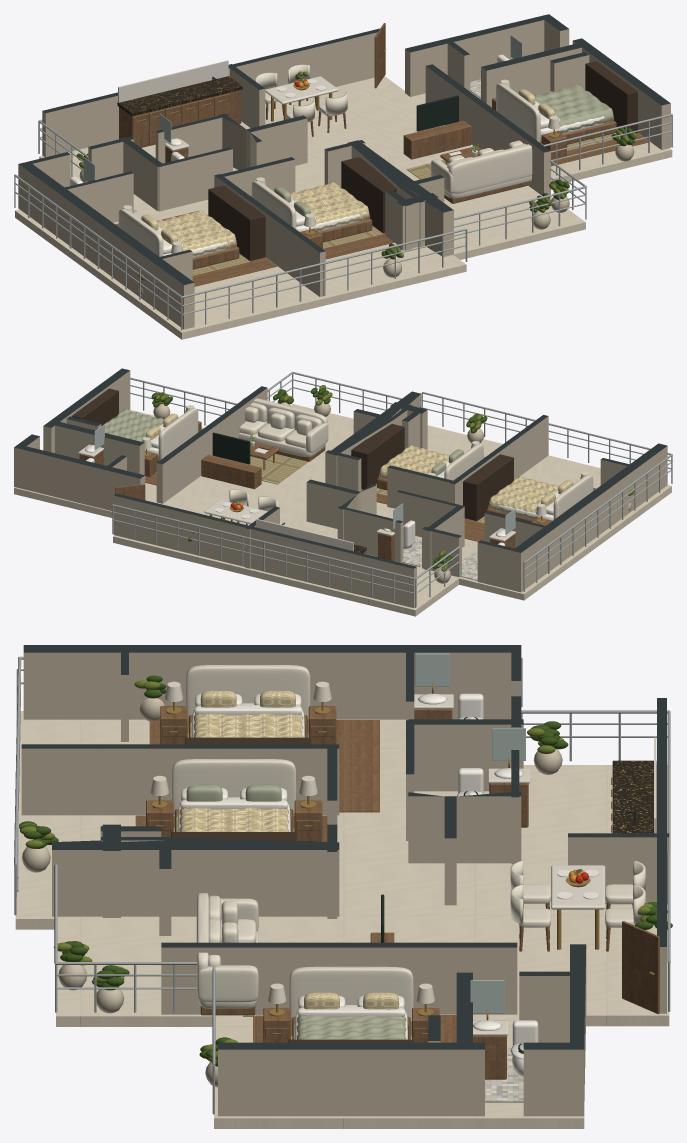
3 renders of one model, top to bottom at view 1: azimuth 30°, elevation 25°; view 2: azimuth 150°, elevation 25°; view 3: azimuth 270°, elevation 25°, orthographic. The views are drawn at different scales.
Visible parts, largest first — view 1: Source-traced internal and perimeter walls • Wall, Continuous apartment foundation, Sofa back, Fitted dark wardrobe, Fitted dark wardrobe.001, Fitted dark wardrobe.002, Soft jacquard duvet with folds.001, Soft jacquard duvet with folds.002, Soft jacquard duvet with folds, Backsplash, Deep green kitchen stone, Walnut media console (+19 smaller); view 2: Source-traced internal and perimeter walls • Wall, Continuous apartment foundation, Fitted dark wardrobe, Fitted dark wardrobe.001, Soft jacquard duvet with folds, Walnut media console, Padded headboard.002, Soft jacquard duvet with folds.002, Soft jacquard duvet with folds.001, Living patterned carpet, Fitted dark wardrobe.002, Television (+18 smaller); view 3: Source-traced internal and perimeter walls • Wall, Continuous apartment foundation, Full bedroom wood flooring, Padded headboard.002, Padded headboard, Padded headboard.001, Deep green kitchen stone, Oak entrance door, Soft jacquard duvet with folds.002, Soft jacquard duvet with folds, Soft jacquard duvet with folds.001, Rounded armrest (+18 smaller).
Boxes of the visible parts, <box> form: Source-traced internal and perimeter walls • Wall: <box>18,14,670,329</box>; Continuous apartment foundation: <box>15,76,672,339</box>; Sofa back: <box>448,143,544,193</box>; Fitted dark wardrobe: <box>208,185,265,260</box>; Fitted dark wardrobe.001: <box>341,157,396,232</box>; Fitted dark wardrobe.002: <box>585,61,637,135</box>; Soft jacquard duvet with folds.001: <box>290,182,369,230</box>; Soft jacquard duvet with folds.002: <box>534,84,614,133</box>; Soft jacquard duvet with folds: <box>157,210,236,255</box>; Backsplash: <box>118,60,228,102</box>; Deep green kitchen stone: <box>117,76,242,114</box>; Walnut media console: <box>403,120,471,159</box>; Source-traced internal and perimeter walls • Wall: <box>14,368,667,607</box>; Continuous apartment foundation: <box>14,404,671,616</box>; Fitted dark wardrobe: <box>463,454,513,520</box>; Fitted dark wardrobe.001: <box>351,424,404,489</box>; Soft jacquard duvet with folds: <box>488,476,558,518</box>; Walnut media console: <box>201,454,261,489</box>; Padded headboard.002: <box>158,408,198,460</box>; Soft jacquard duvet with folds.002: <box>105,409,163,441</box>; Soft jacquard duvet with folds.001: <box>379,445,449,478</box>; Living patterned carpet: <box>225,453,308,484</box>; Fitted dark wardrobe.002: <box>72,388,118,426</box>; Television: <box>212,432,250,464</box>; Source-traced internal and perimeter walls • Wall: <box>21,645,669,1116</box>; Continuous apartment foundation: <box>15,711,669,1128</box>; Full bedroom wood flooring: <box>149,720,379,812</box>; Padded headboard.002: <box>289,966,413,1022</box>; Padded headboard: <box>186,665,310,720</box>; Padded headboard.001: <box>172,759,296,814</box>; Deep green kitchen stone: <box>612,760,656,833</box>; Oak entrance door: <box>622,921,659,1014</box>; Soft jacquard duvet with folds.002: <box>294,1015,408,1039</box>; Soft jacquard duvet with folds: <box>190,713,305,737</box>; Soft jacquard duvet with folds.001: <box>176,807,291,831</box>; Rounded armrest: <box>197,965,258,1002</box>.
Size of the model in its own units: 14.69 by 1.7 by 10.02.
26 materials, 6 textured.
